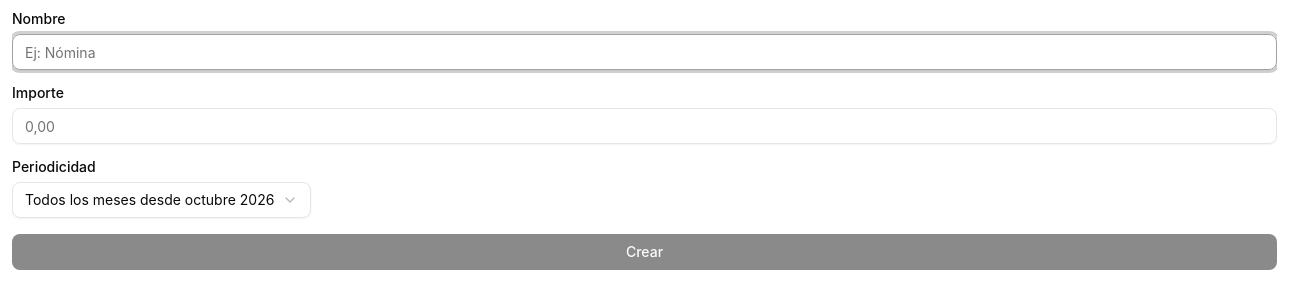
Test: IncomeLineForm › keeps submit disabled until a label and a positive amount are given
Expected: the button "Crear" is disabled, [12,234,1277,270]
Type "Nómina" into the field labelled "Nombre" at (644, 52), box [12,34,1277,70]
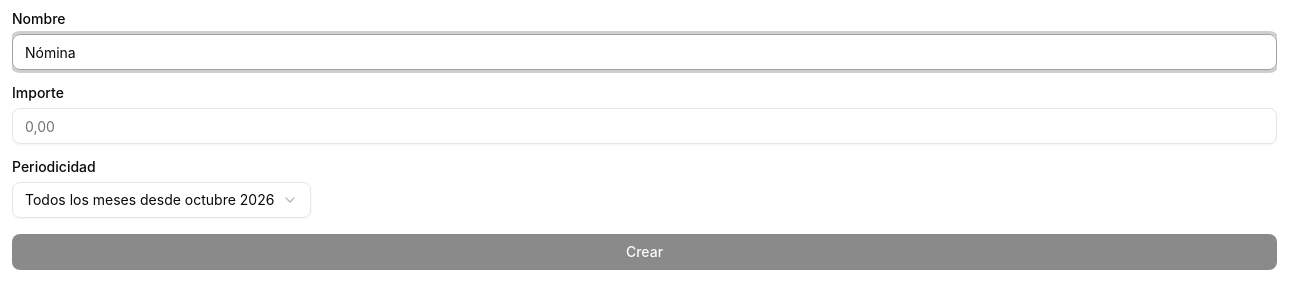
Expected: the button "Crear" is disabled, [12,234,1277,270]
Type "1600" into the number field labelled "Importe" at (644, 126), box [12,108,1277,144]
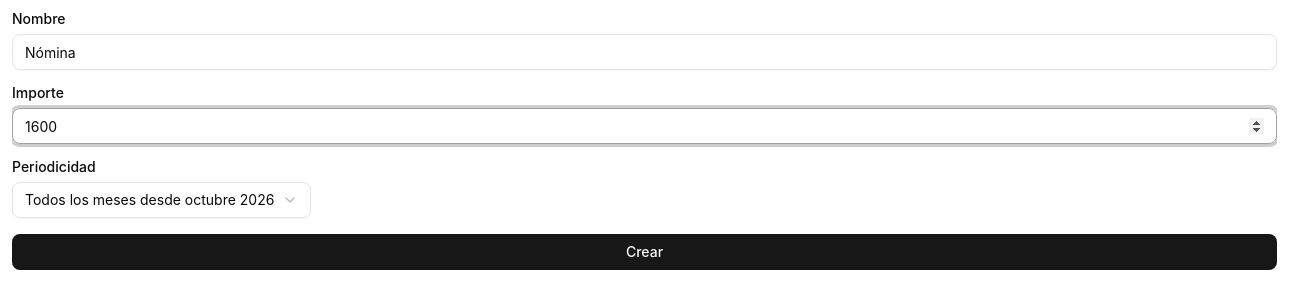
Now the button "Crear" is enabled, box [12,234,1277,270]
